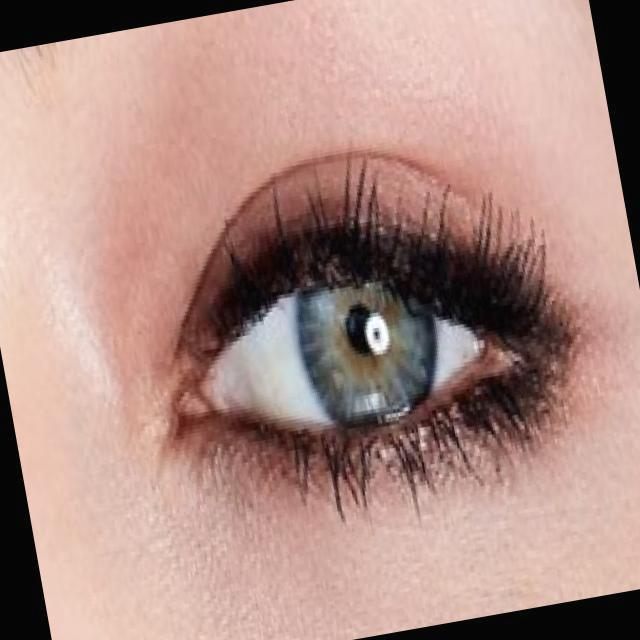Normal: (138, 155, 566, 538)
